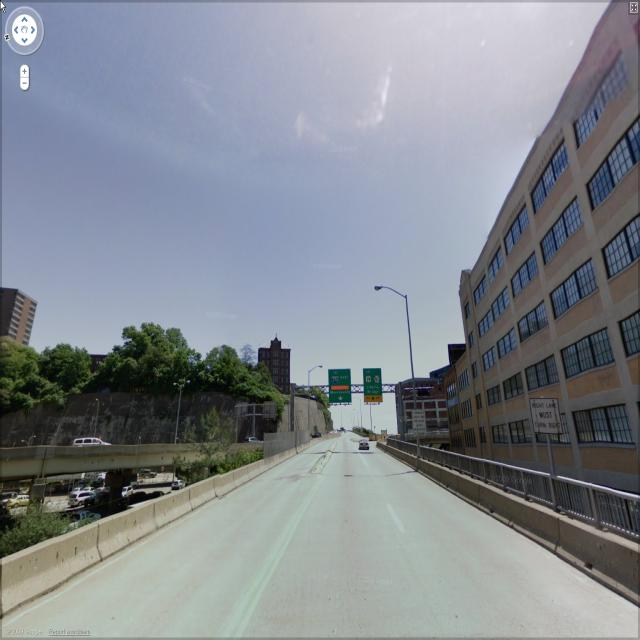b_1: (467, 19, 640, 464), (398, 374, 452, 442), (1, 284, 46, 350), (448, 367, 472, 452), (256, 332, 290, 386)
